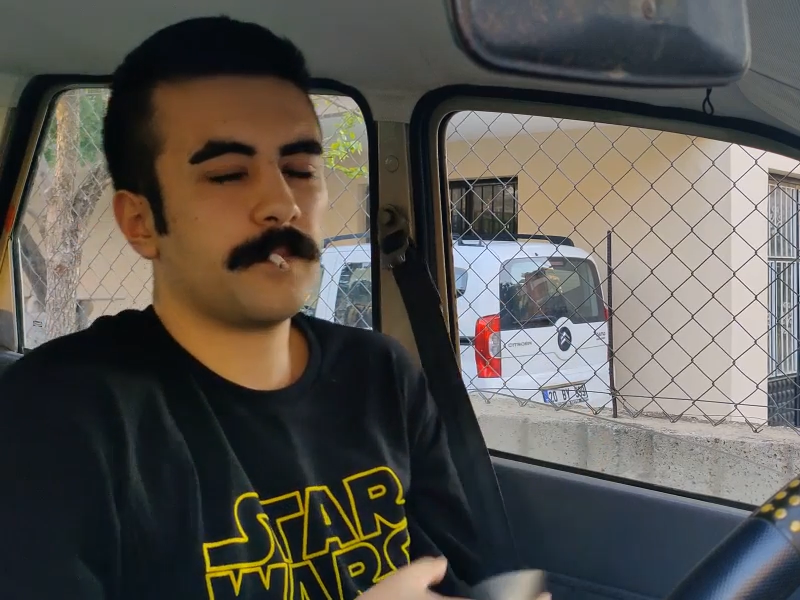sigara: (265, 249, 292, 274)
